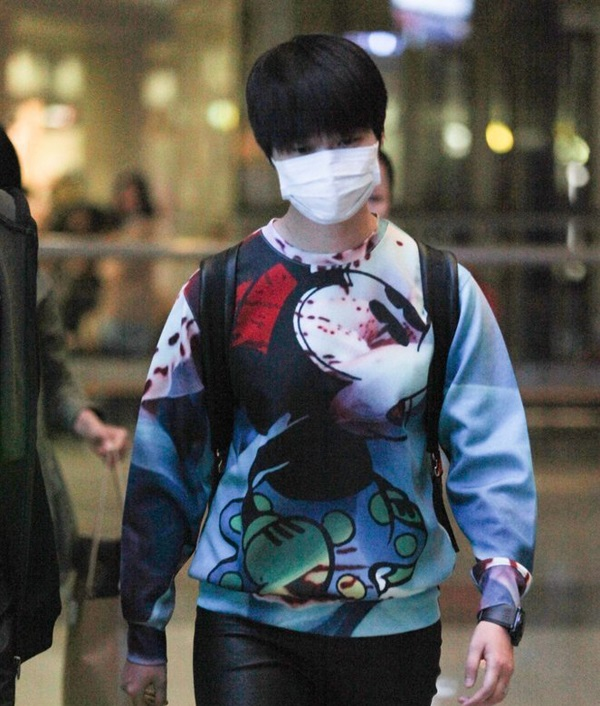face_mask: (281, 113, 375, 226)
